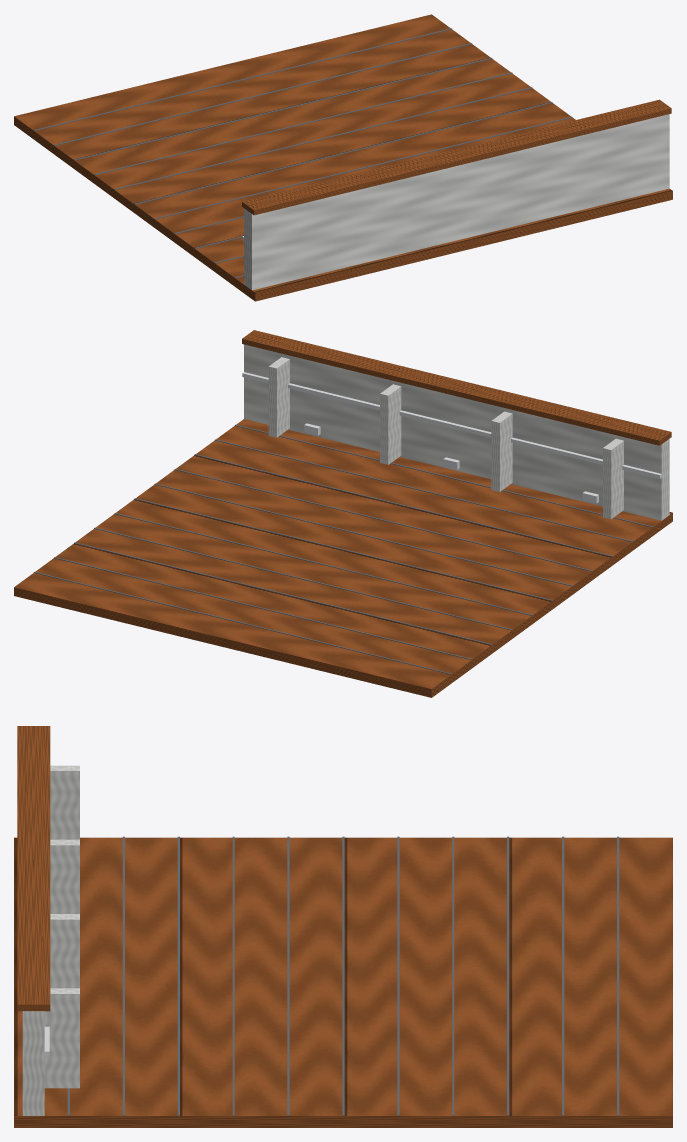
The model's file is cruise-ship-deck-and-lounge-cruise-ship-deck-and-loung-a8e7217e__38408.glb.
3 renders of one model, top to bottom at view 1: azimuth 30°, elevation 25°; view 2: azimuth 150°, elevation 25°; view 3: azimuth 270°, elevation 25°, orthographic. The views are drawn at different scales.
Visible parts, largest first — view 1: cruise-ship-deck-and-lounge-promenade-deck-section; view 2: cruise-ship-deck-and-lounge-promenade-deck-section; view 3: cruise-ship-deck-and-lounge-promenade-deck-section.
Part boxes in pixels (x1=…): cruise-ship-deck-and-lounge-promenade-deck-section: x1=14, y1=14, x2=672, y2=301; cruise-ship-deck-and-lounge-promenade-deck-section: x1=14, y1=330, x2=672, y2=697; cruise-ship-deck-and-lounge-promenade-deck-section: x1=14, y1=726, x2=672, y2=1127.
Bounding box in the file's own units: 6 × 1.24 × 6.
4 materials, 2 textured.
